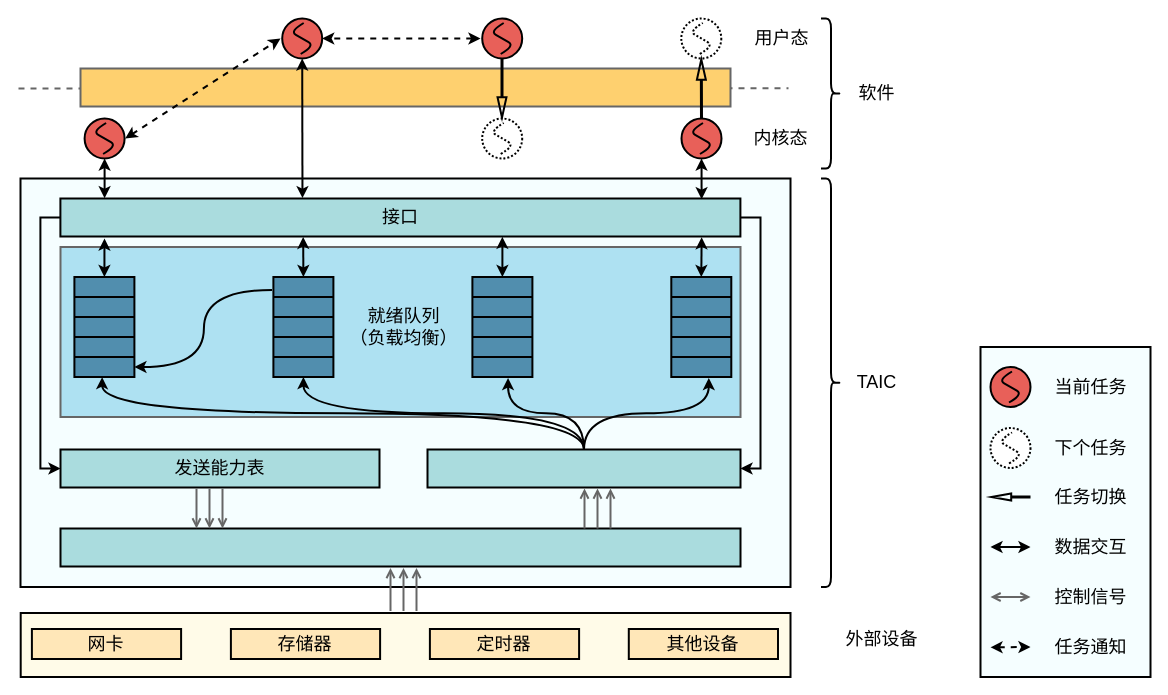
Some shapes in this 1168 by 695 pixel diagram are drawn without their labels. The shapes that lost their labels are listed below. From the top down, each one's box as (x1, y1, x2, y2) in pixels, then its label:
(79, 67, 731, 107): 跳板
(426, 448, 741, 488): 接收能力表
(59, 527, 741, 567): 中断处理
